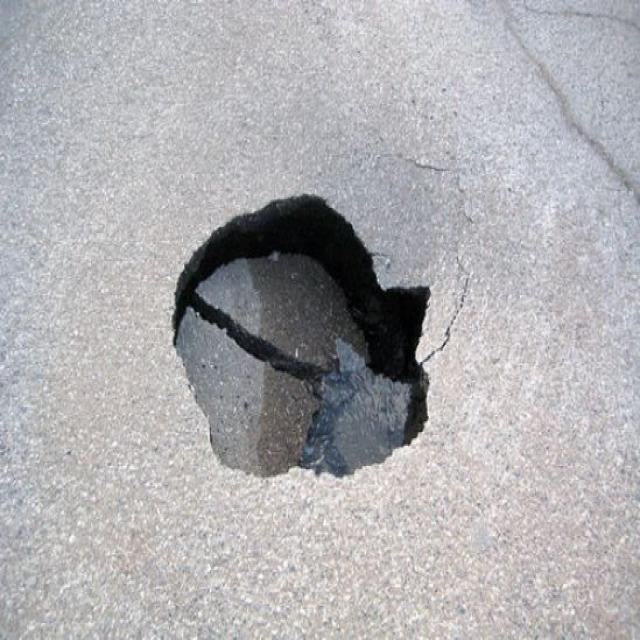pothole: (164, 188, 436, 477)
